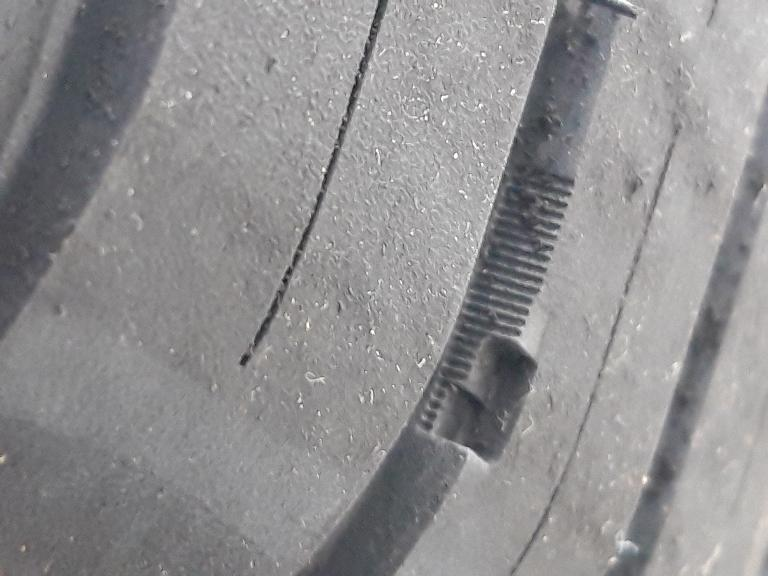temoin:50: (403, 281, 560, 481)
